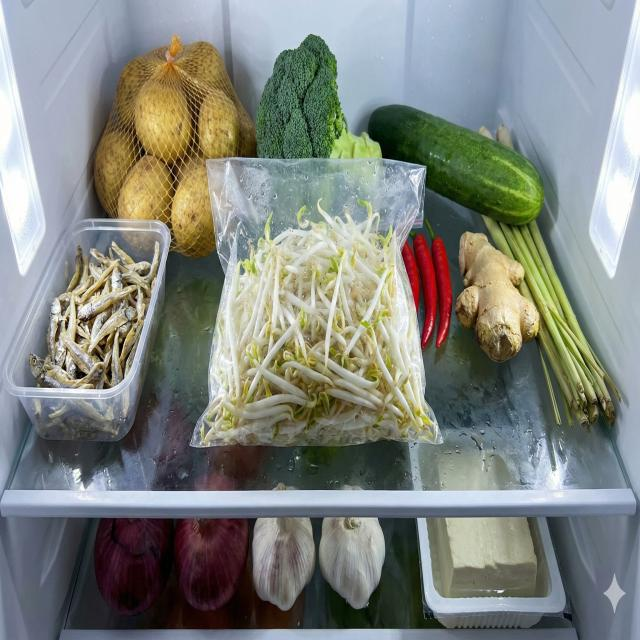anchovies: (29, 238, 161, 438)
bean_sprouts: (201, 195, 439, 445)
brocolli: (256, 33, 384, 164)
chili: (401, 209, 454, 351)
cucumber: (369, 103, 543, 227)
garlic: (252, 514, 316, 613), (318, 517, 386, 610)
ginger: (455, 232, 541, 365)
lemongrass: (483, 215, 622, 432)
onion: (93, 517, 170, 618), (174, 516, 250, 612)
potato: (94, 41, 256, 258)
tofu: (435, 447, 537, 596)
